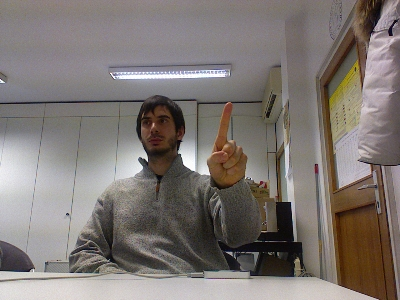食指: (204, 99, 248, 189)
